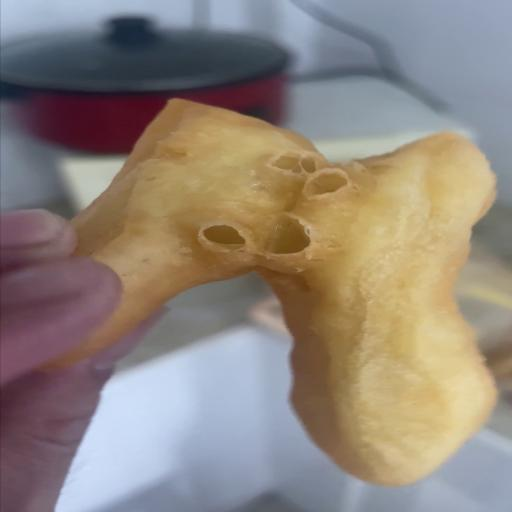street_golden_defect: (49, 99, 495, 485)
